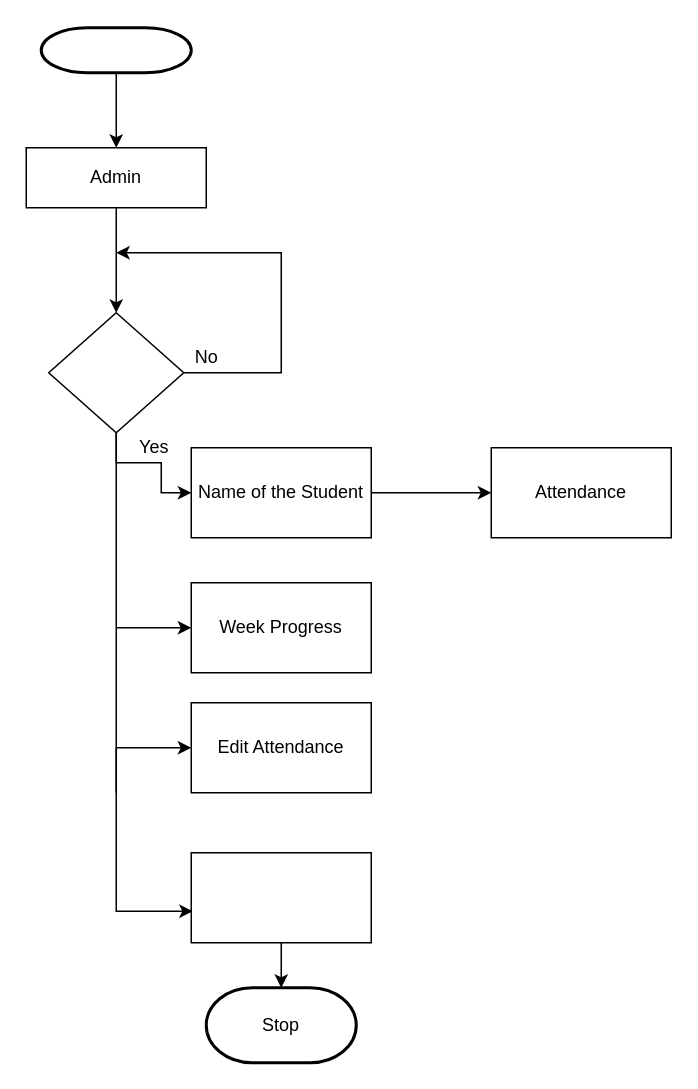
This 698x1089 diagram has some shape labels left out. Each missing label, with the centre of its shape:
"Change Password" belongs at point (280, 897).
"Login" belongs at point (115, 372).
"Start" belongs at point (115, 50).
